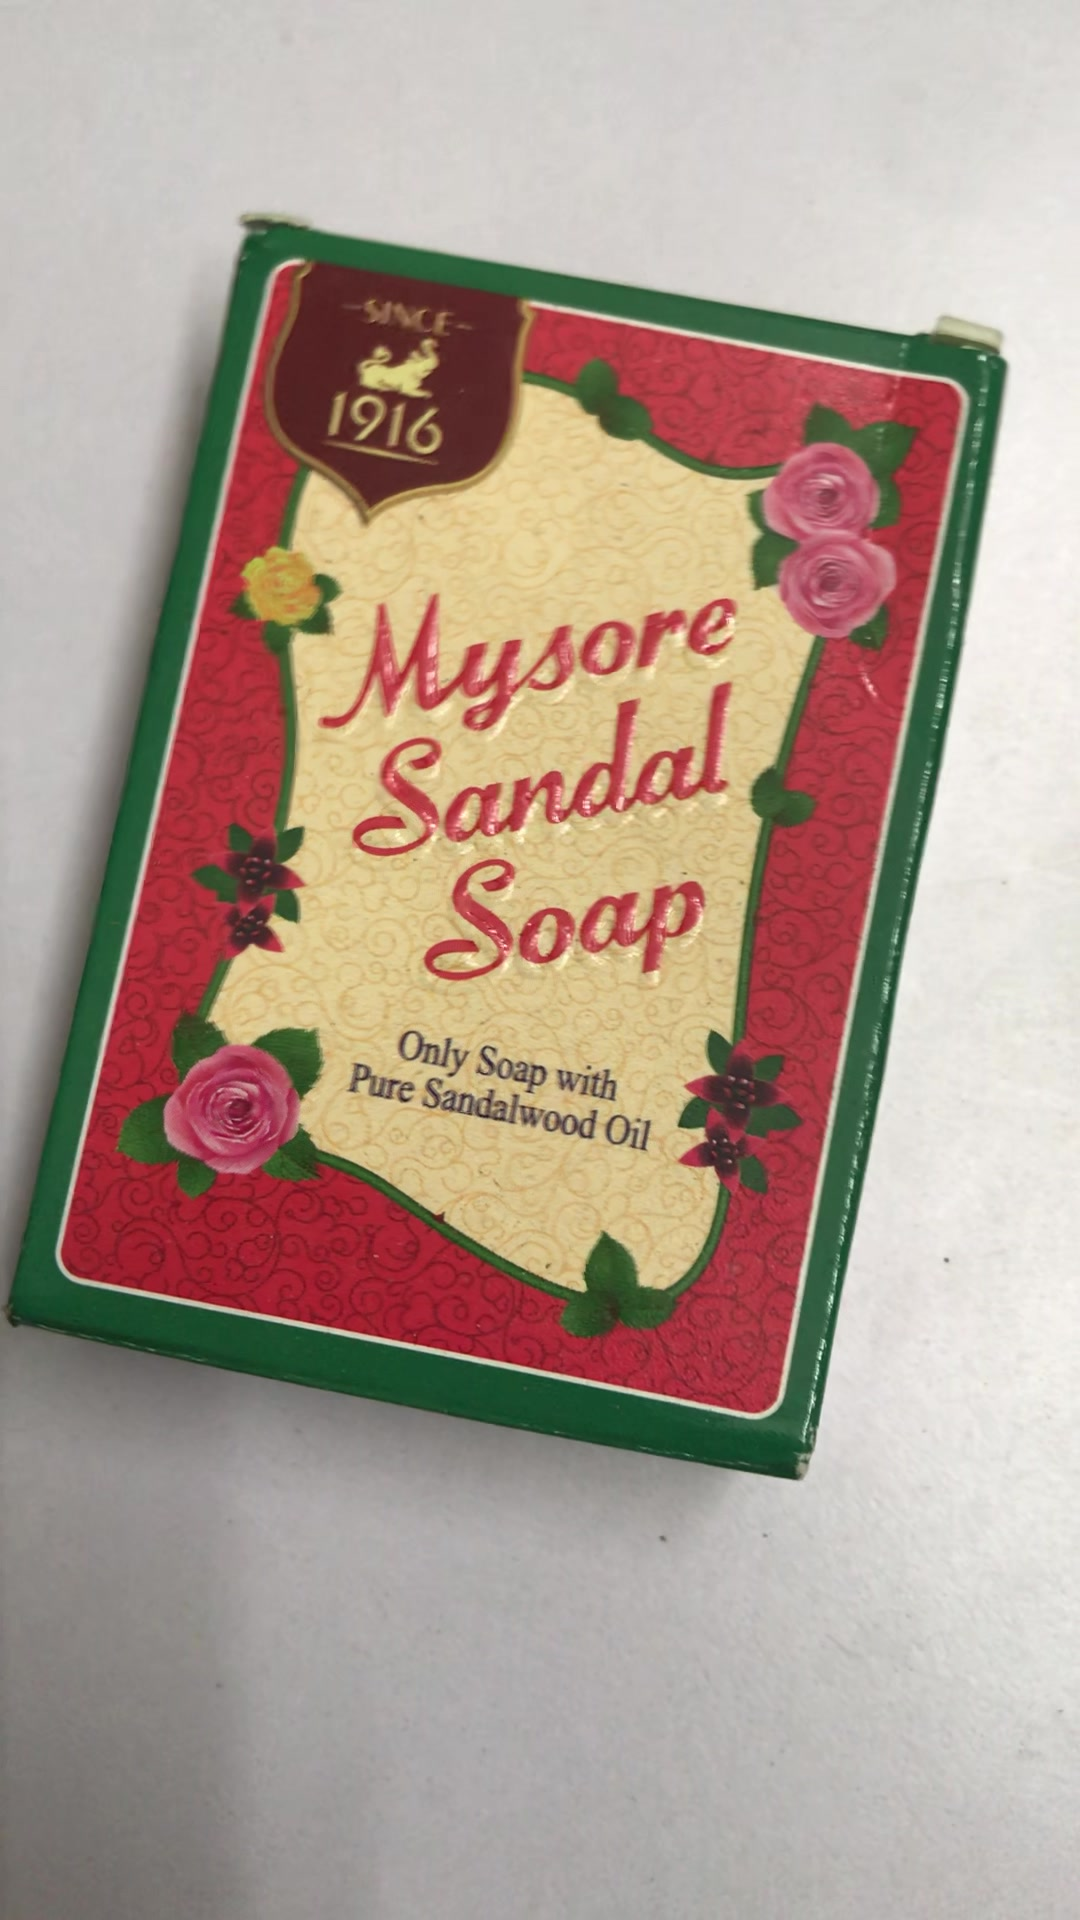mysore sandal soap: (1, 222, 1015, 1486)
